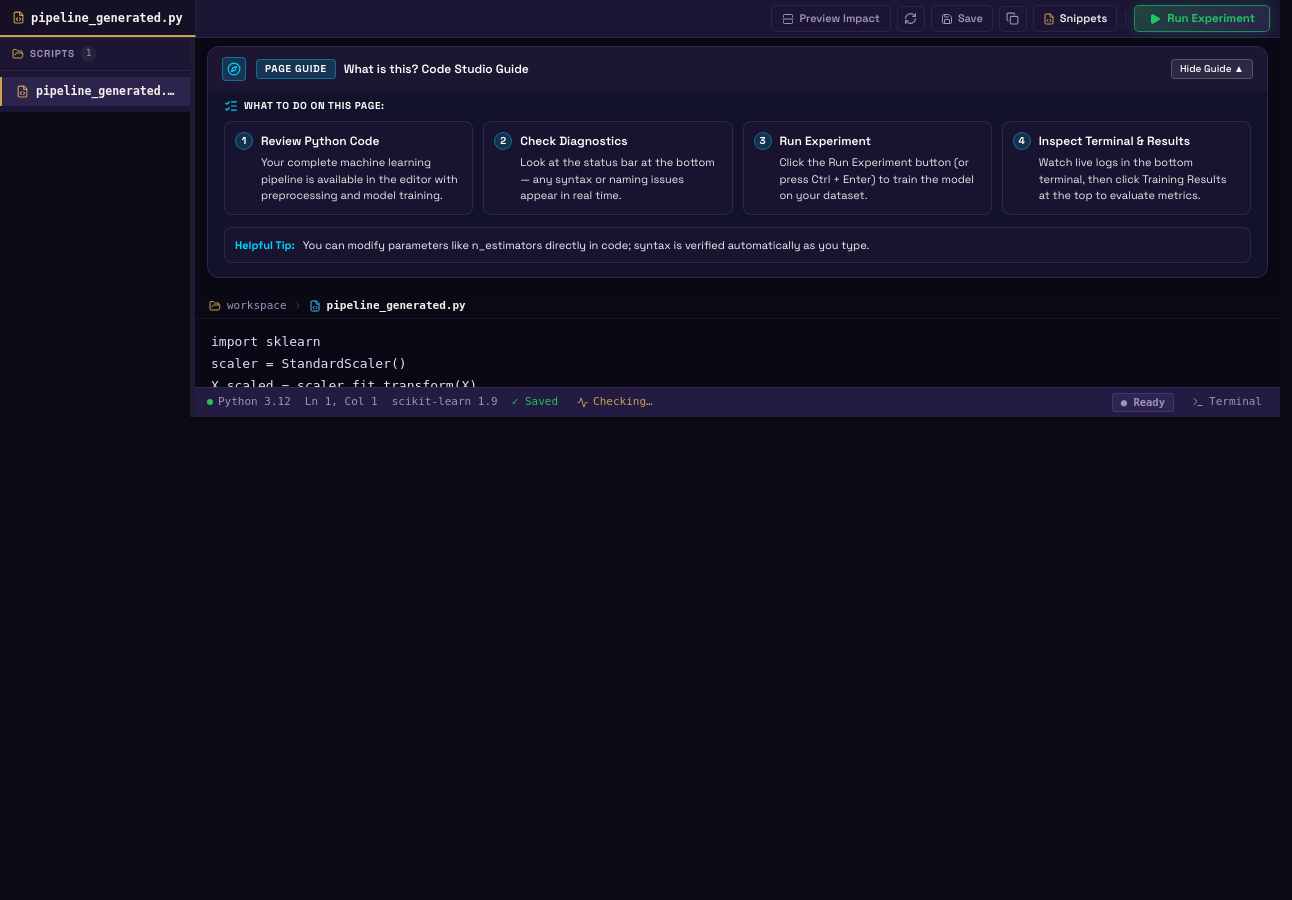
Test: Code Studio: ML-Native Editing Engine › 5.4 Learning-Layer Checks & Separate Problem Source Badging › renders separate "ML Playground checks" badge in Problems tab when AST audit finds data leakage
The image size is (1292, 900).
// Switch to Problems tab via status bar
Step 1. Click the button with test id "status-bar-problems-btn" → [615, 402], box [572,393,658,412]
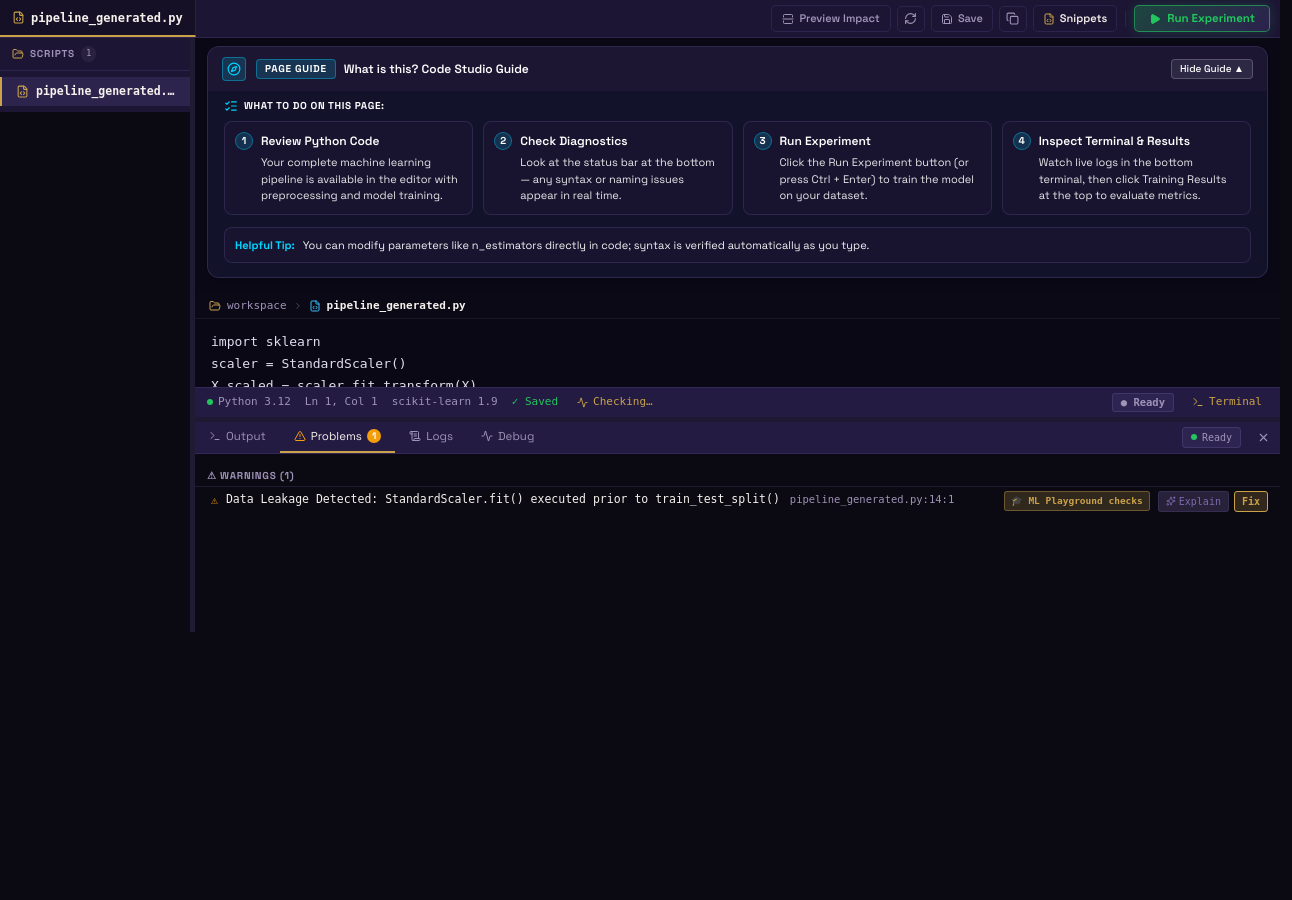
Expected: the text "Data Leakage Detected" is shown, [226,492,780,506]
Expected: the text "🎓 ML Playground checks" is shown, [1004,491,1150,511]
Expected: the text with test id "problem-source-badge-" reads "🎓 ML Playground checks", [1011,495,1143,506]
